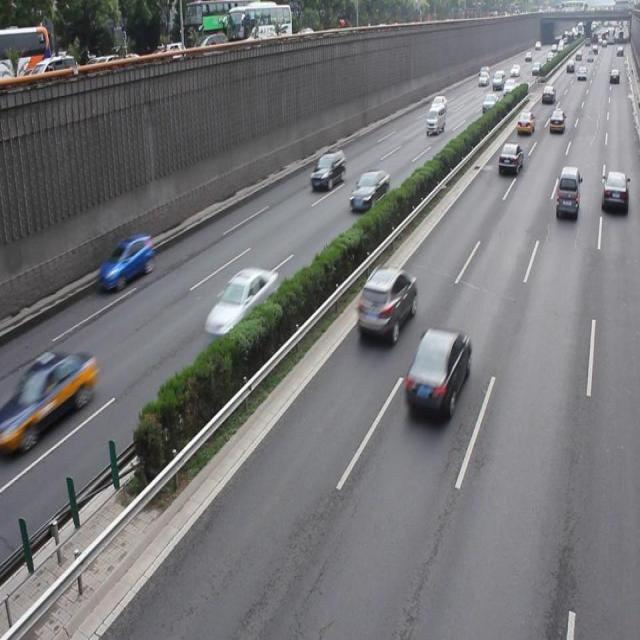car: (1, 346, 97, 462), (404, 325, 470, 418), (206, 263, 279, 341), (355, 263, 418, 341), (98, 230, 154, 288), (348, 167, 389, 210), (311, 146, 346, 190), (601, 170, 627, 212), (497, 140, 522, 178)
truck: (554, 164, 578, 221)
